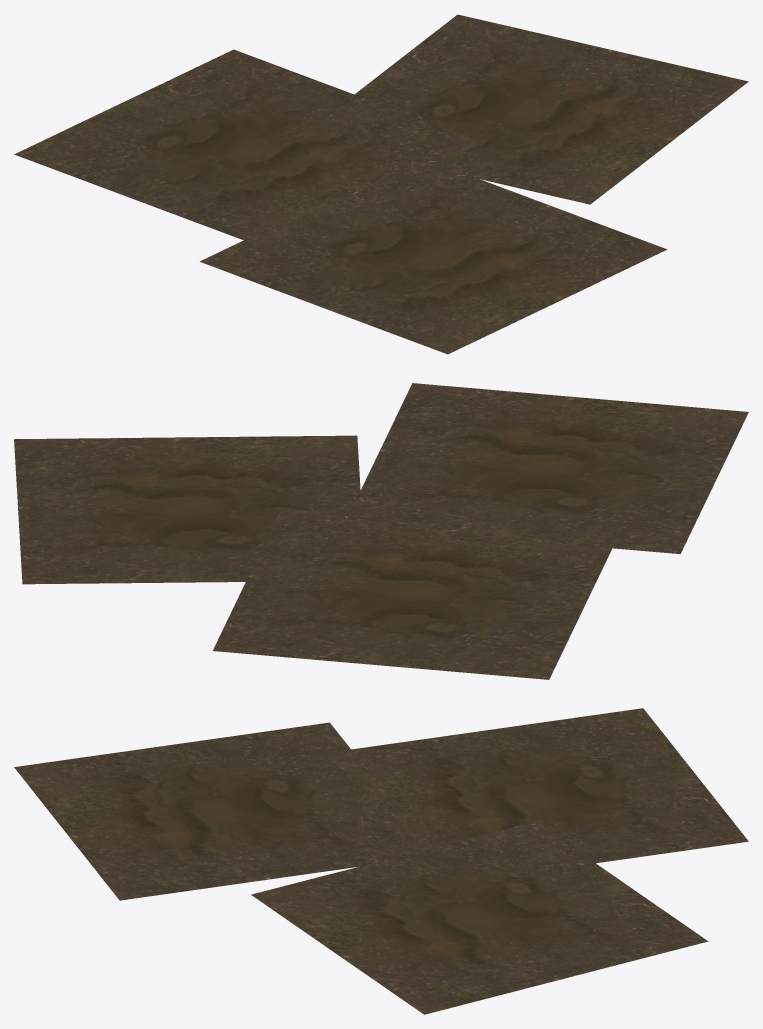
Rendered from dirt_blends.fbx.
The picture shows the model from 3 angles, top to bottom: view 1: azimuth 30°, elevation 25°; view 2: azimuth 150°, elevation 25°; view 3: azimuth 270°, elevation 25°; orthographic projection. The views are drawn at different scales.
Parts seen in each view (by area): view 1: dirt_blend_shadow; view 2: dirt_blend_shadow; view 3: dirt_blend_shadow.
Part boxes in pixels (box(x1,y1,x2,y2)): dirt_blend_shadow: box(14, 14, 748, 354); dirt_blend_shadow: box(14, 383, 748, 679); dirt_blend_shadow: box(14, 708, 748, 1014).
Size of the model in its own units: 19.41 by 0 by 19.67.
